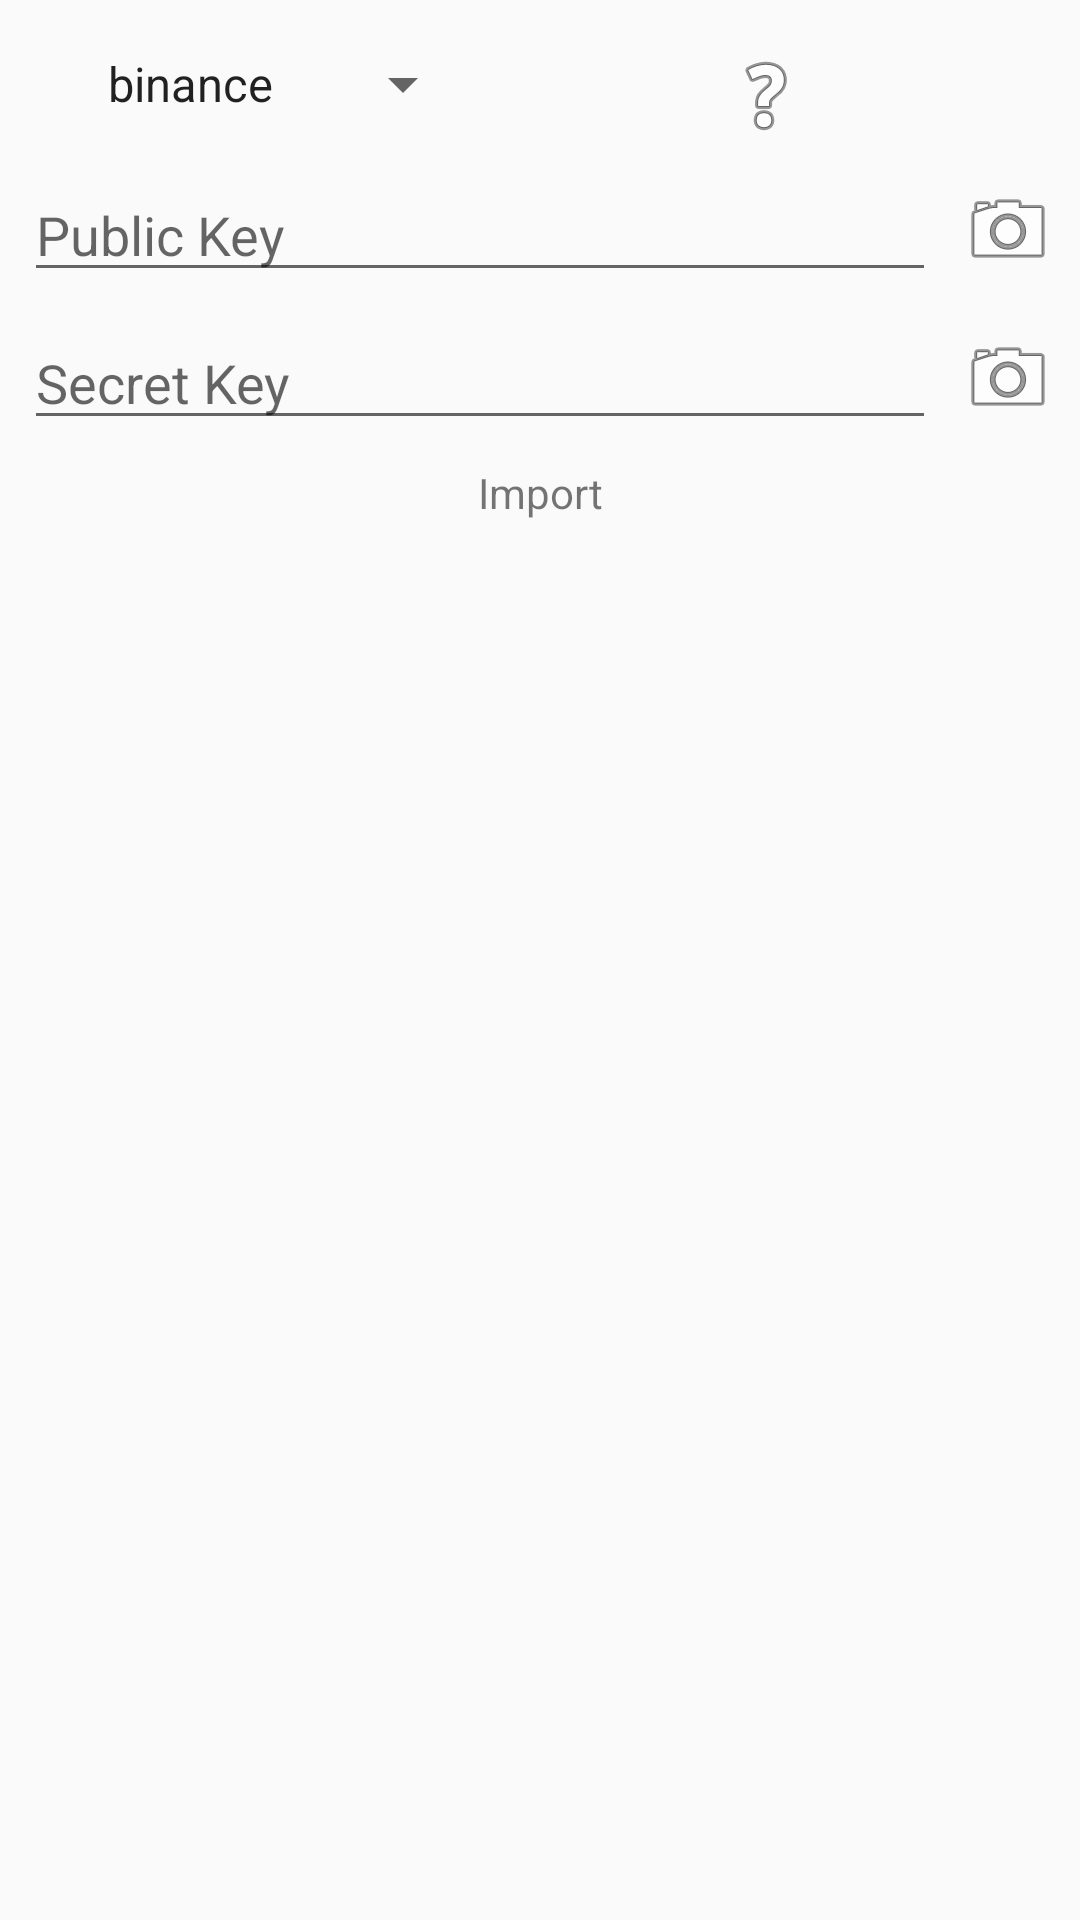

Where icons sit on this 1080px×1920px app screen, as (x1, y1, x2, y2):
camera: (971, 199, 1045, 258), (971, 347, 1045, 406)
help: (745, 62, 787, 130)
